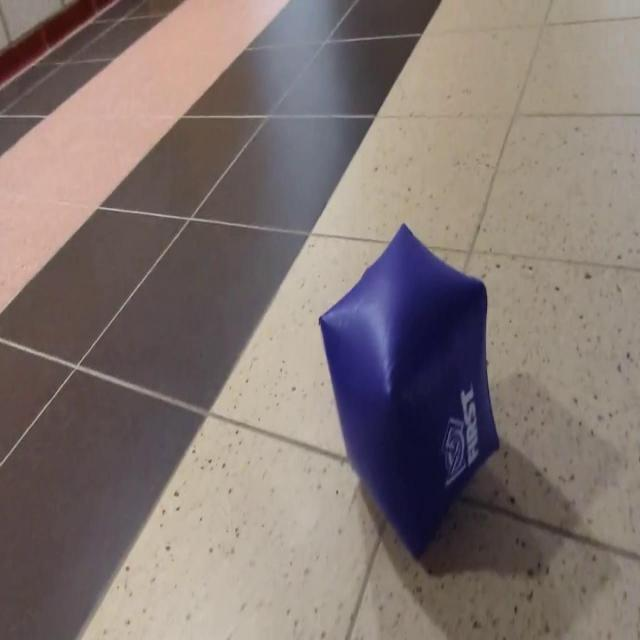frc_cube: (321, 218, 501, 562)
